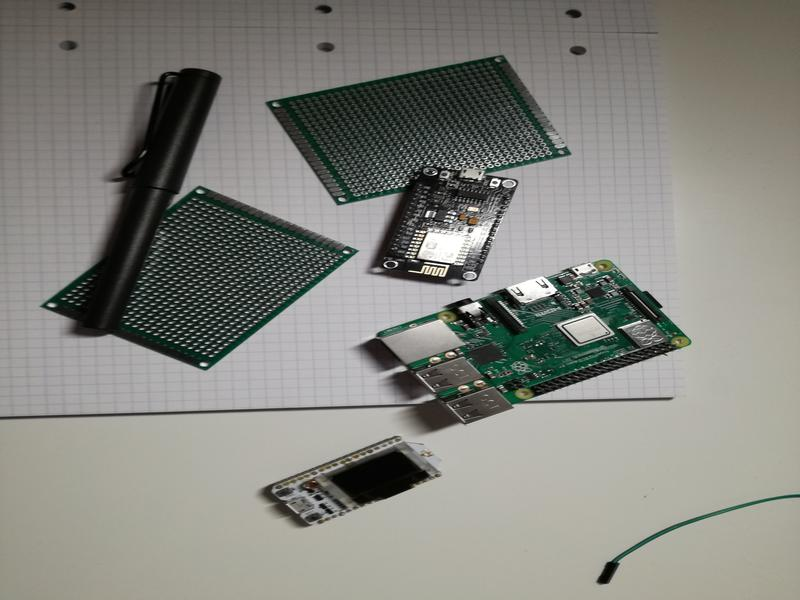ESP8266: (378, 161, 519, 285)
Heltec_ESP32_Lora: (267, 433, 449, 531)
Raspberry_Pi_3: (370, 259, 693, 426)
